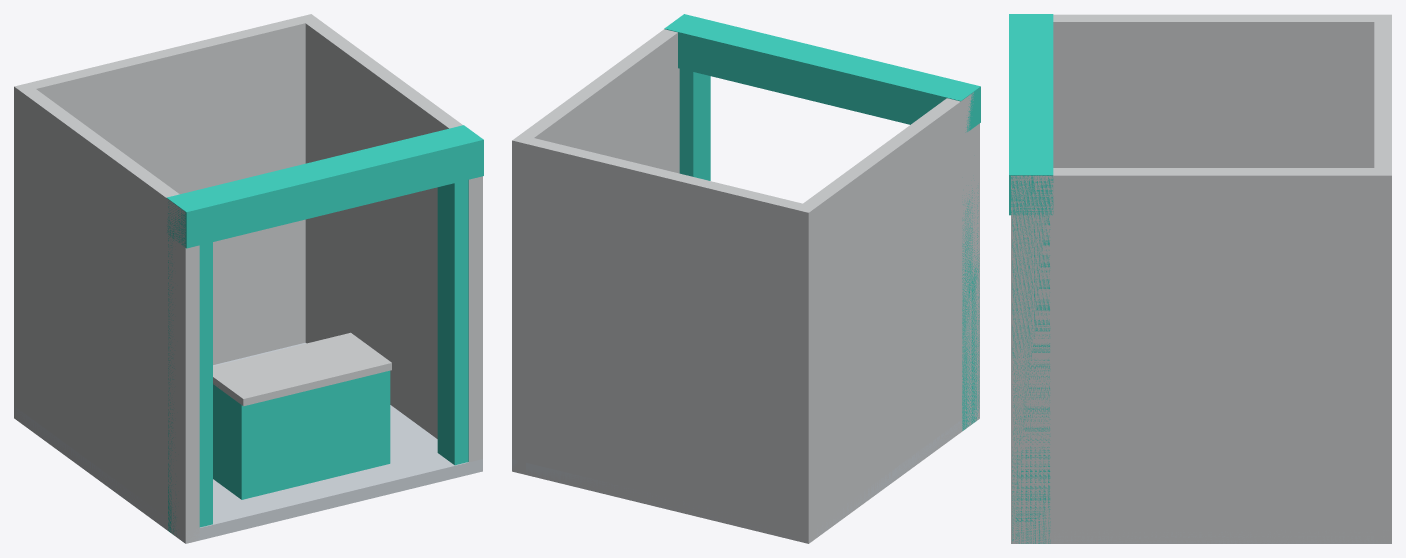
The picture shows the model from 3 angles, left to right: view 1: azimuth 30°, elevation 25°; view 2: azimuth 150°, elevation 25°; view 3: azimuth 270°, elevation 25°; orthographic projection. The views are drawn at different scales.
Parts seen in each view (by area): view 1: Exhibition Booth Concept; view 2: Exhibition Booth Concept; view 3: Exhibition Booth Concept.
Boxes of the visible parts, <box> form: Exhibition Booth Concept: <box>14,14,483,543</box>; Exhibition Booth Concept: <box>512,14,980,543</box>; Exhibition Booth Concept: <box>1009,14,1391,543</box>.
Size of the model in its own units: 3 by 3.2 by 3.01.
